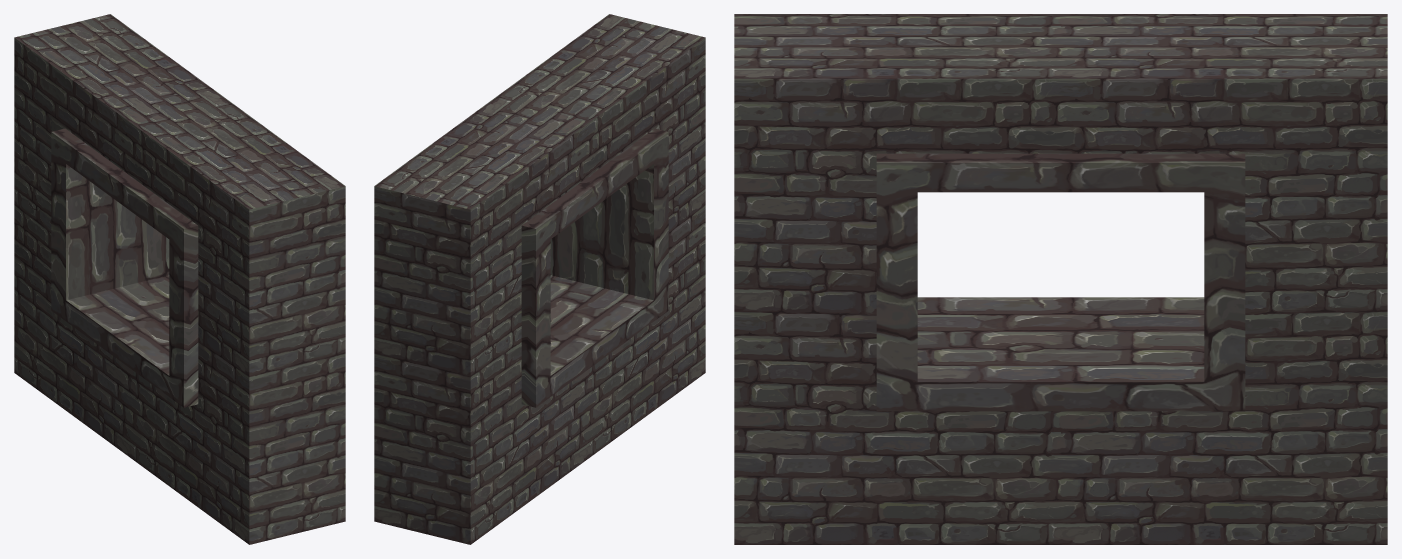
Rendered from dungeon_wall1_window.fbx.
3 renders of one model, left to right at view 1: azimuth 30°, elevation 25°; view 2: azimuth 150°, elevation 25°; view 3: azimuth 270°, elevation 25°, orthographic. The views are drawn at different scales.
Parts seen in each view (by area): view 1: wall1_window; view 2: wall1_window; view 3: wall1_window.
Part boxes in pixels (x1=…): wall1_window: x1=14, y1=14, x2=345, y2=544; wall1_window: x1=374, y1=14, x2=705, y2=544; wall1_window: x1=734, y1=14, x2=1387, y2=544.
Size of the model in its own units: 10.98 by 28.19 by 35.86.
